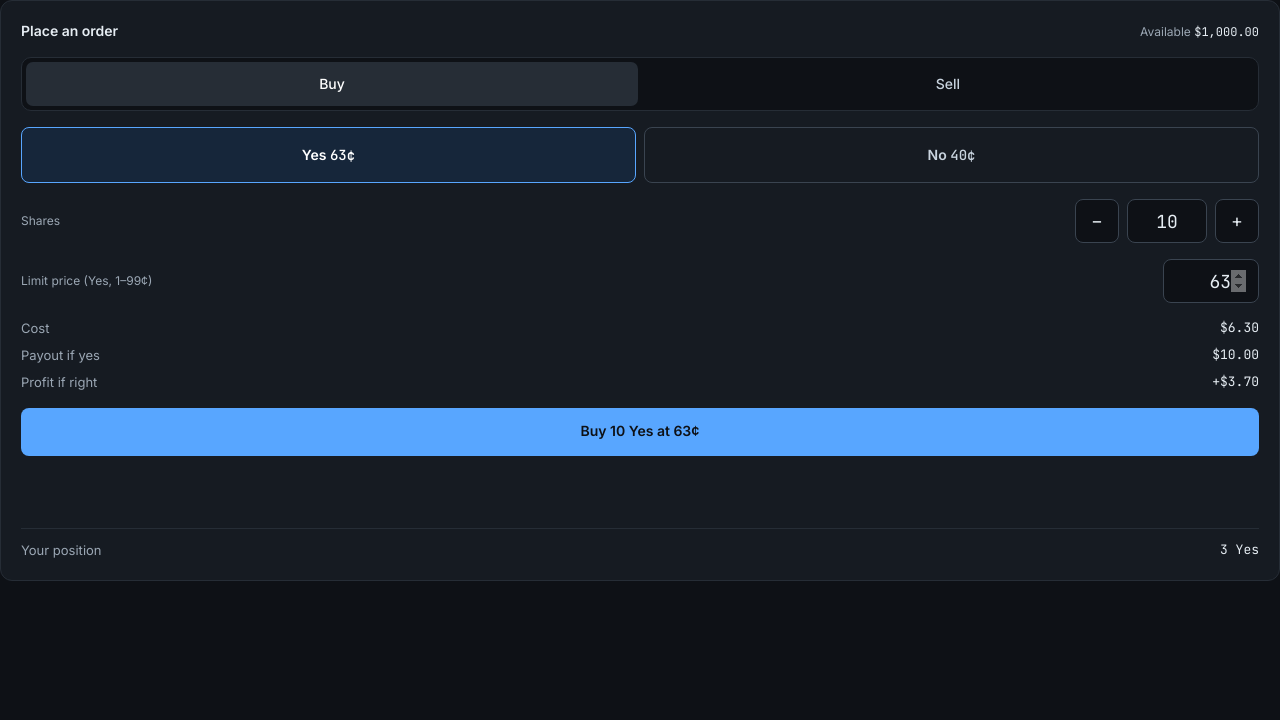
Test case: OrderTicket › refuses to sell shares you do not hold
Click the button with test id "ticket-action-sell".
click(948, 84)  # box x1=642 y1=62 x2=1254 y2=106
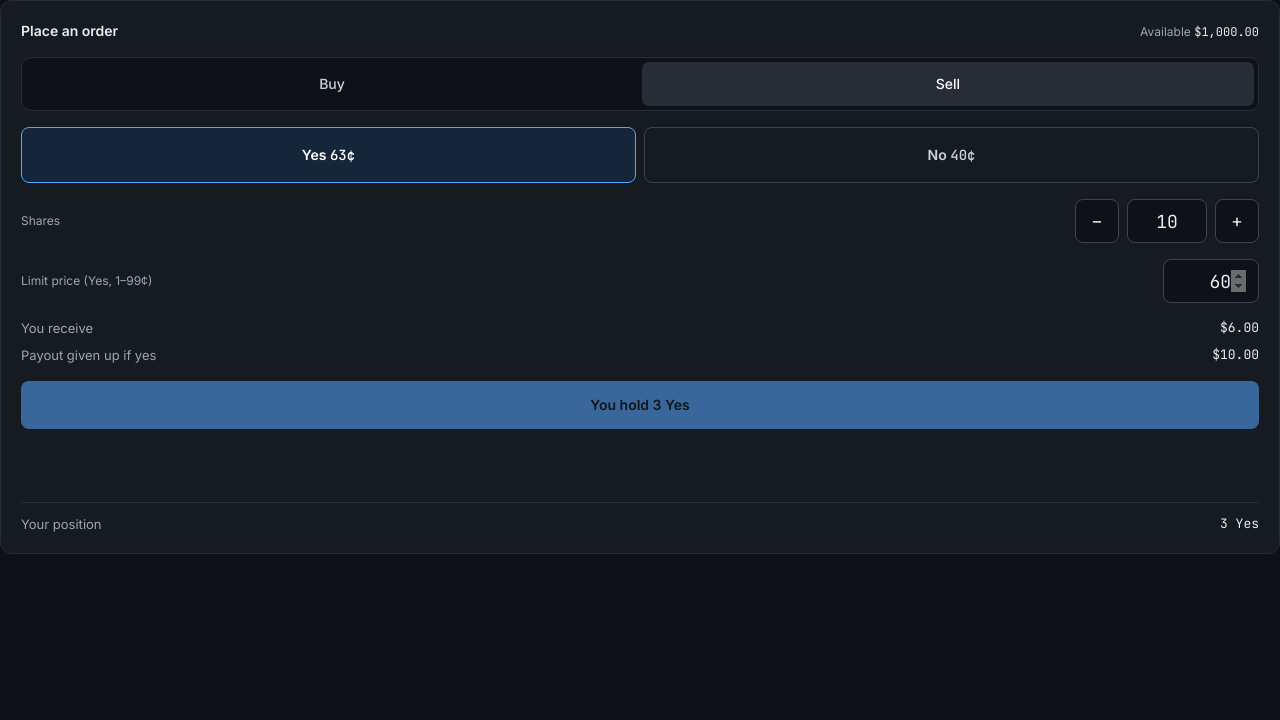
Result: the button with test id "ticket-submit" reads "You hold 3 Yes" at x1=21 y1=381 x2=1259 y2=429
Result: the button with test id "ticket-submit" is disabled at x1=21 y1=381 x2=1259 y2=429
